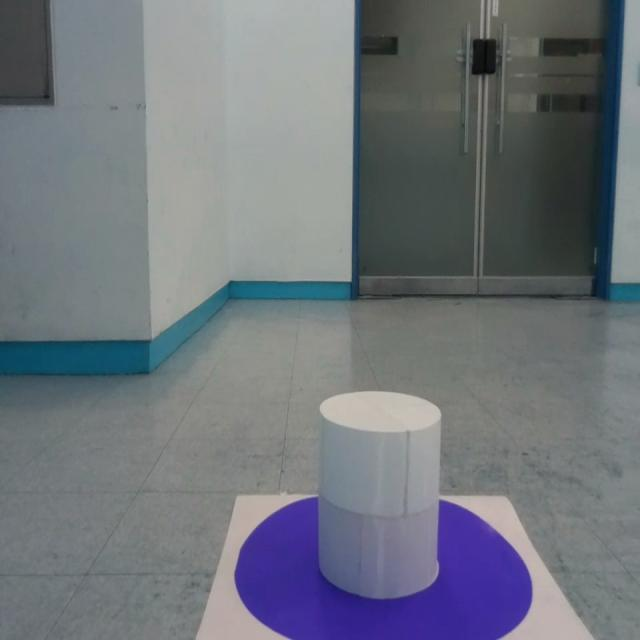cylinder: (316, 391, 442, 599)
